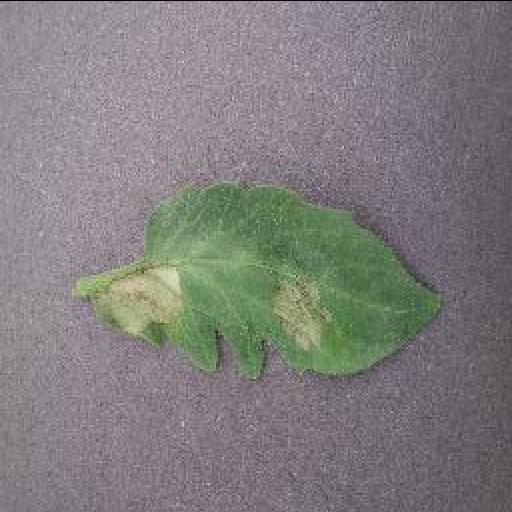disease_tomato: (97, 176, 443, 374)
